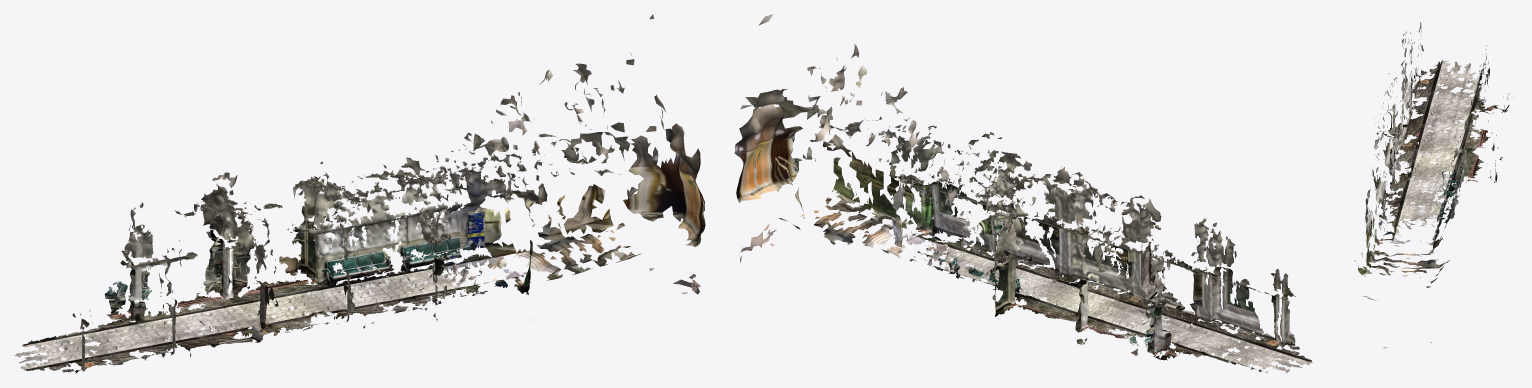
The model's file is 140521-lorongkntin-tex.glb.
3 renders of one model, left to right at view 1: azimuth 30°, elevation 25°; view 2: azimuth 150°, elevation 25°; view 3: azimuth 270°, elevation 25°, orthographic. The views are drawn at different scales.
Visible parts, largest first — view 1: Node; view 2: Node; view 3: Node.
Part boxes in pixels (left/top/right/bottom): Node: left=14, top=14, right=705, bottom=373; Node: left=734, top=14, right=1312, bottom=373; Node: left=1354, top=22, right=1513, bottom=348.
Bounding box in the file's own units: 26.14 × 10.95 × 7.57.
26 materials, 26 textured.
